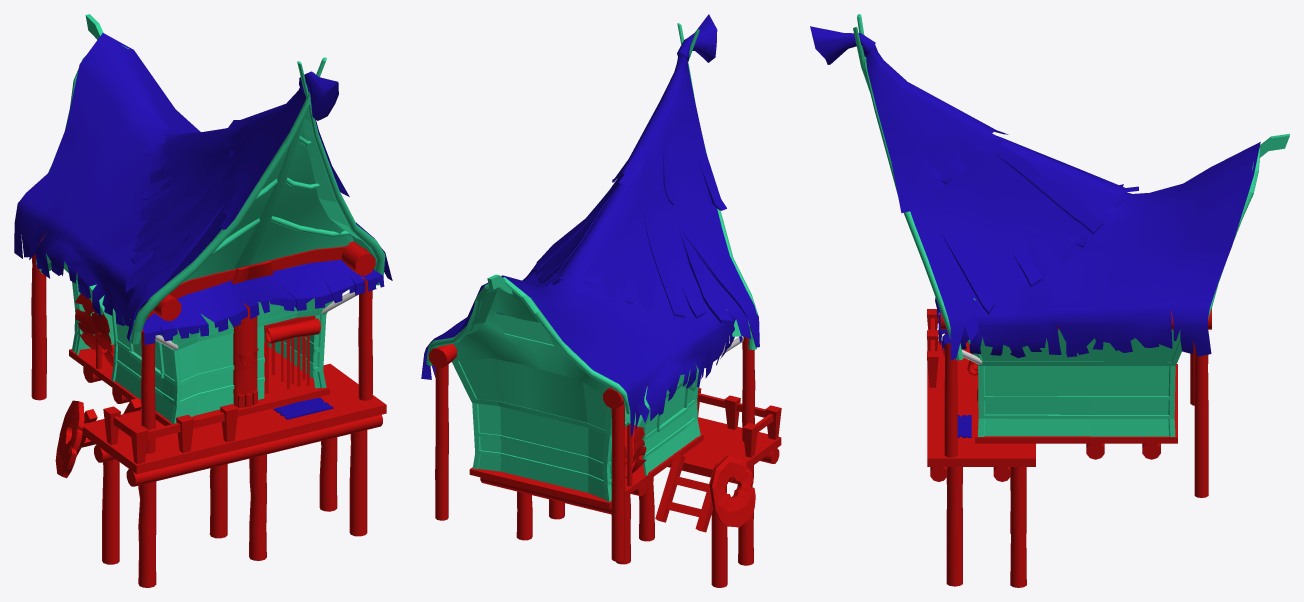
File: casitafix.fbx
3 views of the same model, side by side, from view 1: azimuth 30°, elevation 25°; view 2: azimuth 150°, elevation 25°; view 3: azimuth 270°, elevation 25° (orthographic). The views are drawn at different scales.
Parts seen in each view (by area): view 1: Cylinder044, Cylinder041, basecasa_contablas, Box001, Plane030, Plane002, Cylinder039, Box017, Cylinder001, Cylinder012, Cylinder033, Cylinder025 (+26 smaller); view 2: Cylinder041, basecasa_contablas, Cylinder044, Cylinder039, Plane011, Box001, Box017, Cylinder009, Cylinder034, Cylinder033, Cylinder035, Cylinder008 (+13 smaller); view 3: Cylinder044, Cylinder041, basecasa_contablas, Cylinder039, Box001, Cylinder034, Box017, Cylinder007, Cylinder003, Cylinder011, Cylinder016, Cylinder019.
Boxes of the visible parts, <box> form: Cylinder044: <box>14,33,374,326</box>; Cylinder041: <box>125,128,392,341</box>; basecasa_contablas: <box>72,264,332,423</box>; Box001: <box>82,363,386,474</box>; Plane030: <box>143,100,375,325</box>; Plane002: <box>142,259,384,344</box>; Cylinder039: <box>221,87,349,229</box>; Box017: <box>69,343,329,425</box>; Cylinder001: <box>126,414,382,486</box>; Cylinder012: <box>130,57,326,344</box>; Cylinder033: <box>31,234,46,400</box>; Cylinder025: <box>233,302,257,407</box>; Cylinder041: <box>527,167,759,347</box>; basecasa_contablas: <box>452,321,700,501</box>; Cylinder044: <box>421,266,742,436</box>; Cylinder039: <box>612,53,726,210</box>; Plane011: <box>452,287,625,408</box>; Box001: <box>668,417,781,481</box>; Box017: <box>469,425,703,508</box>; Cylinder009: <box>709,456,755,527</box>; Cylinder034: <box>435,364,448,520</box>; Cylinder033: <box>611,403,625,561</box>; Cylinder035: <box>504,278,630,414</box>; Cylinder008: <box>711,484,727,587</box>; Cylinder044: <box>960,142,1260,357</box>; Cylinder041: <box>910,133,1138,360</box>; basecasa_contablas: <box>968,329,1181,436</box>; Cylinder039: <box>866,45,1008,213</box>; Box001: <box>927,340,1035,466</box>; Cylinder034: <box>1194,347,1208,497</box>; Box017: <box>975,364,1177,443</box>; Cylinder007: <box>1010,467,1026,587</box>; Cylinder003: <box>946,467,962,586</box>; Cylinder011: <box>944,342,957,457</box>; Cylinder016: <box>857,14,963,360</box>; Cylinder019: <box>810,26,875,64</box>.
Size of the model in its own units: 43.31 by 64.38 by 76.48.
